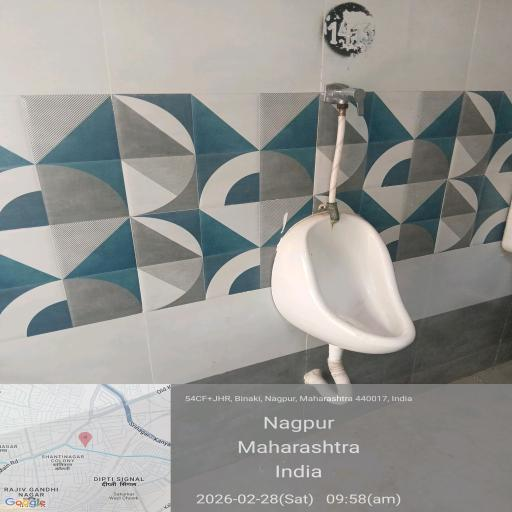clean_floor: (28, 4, 242, 510), (254, 0, 511, 126)
clean_urinal: (223, 138, 454, 374)
